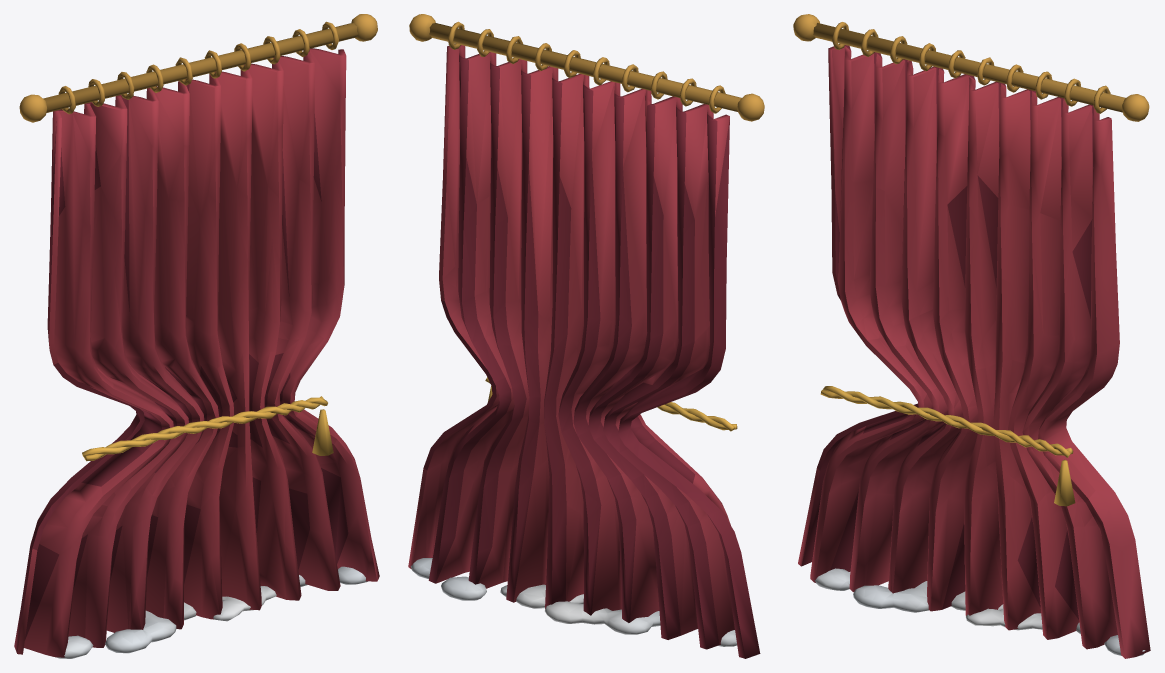
File: frost_curtain_lod1.glb
The picture shows the model from 3 angles, left to right: view 1: azimuth 30°, elevation 25°; view 2: azimuth 150°, elevation 25°; view 3: azimuth 330°, elevation 25°; orthographic projection.
Parts seen in each view (by area): view 1: frost_curtain.001; view 2: frost_curtain.001; view 3: frost_curtain.001.
Boxes of the visible parts, left/top/right/bottom form: frost_curtain.001: left=14, top=14, right=379, bottom=658; frost_curtain.001: left=408, top=14, right=764, bottom=658; frost_curtain.001: left=793, top=14, right=1150, bottom=658.
Size of the model in its own units: 37.91 by 57.57 by 8.18.
